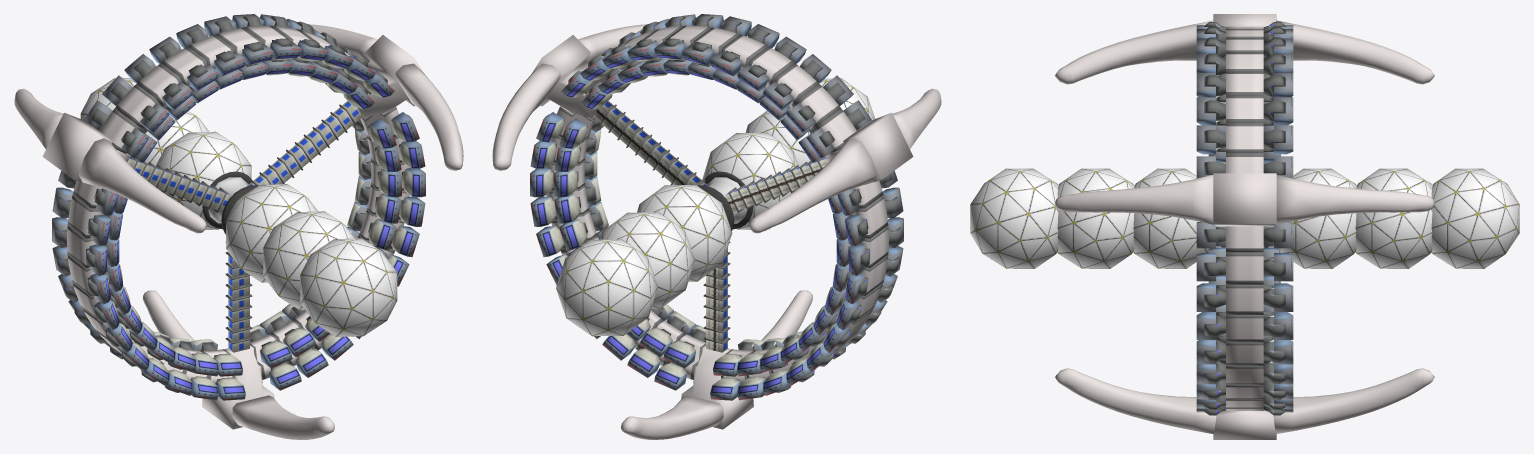
The model's file is spacestation.fbx.
The picture shows the model from 3 angles, left to right: view 1: azimuth 30°, elevation 25°; view 2: azimuth 150°, elevation 25°; view 3: azimuth 270°, elevation 25°; orthographic projection. The views are drawn at different scales.
Visible parts, largest first — view 1: Icosphere_004, Icosphere, Icosphere_003, StationFloor_041, Icosphere_011, StationFloor_023, StationFloor_037, StationFloor_039, StationFloor_038, StationFloor, StationFloor_040, StationFloor_036 (+41 smaller); view 2: Icosphere_007, Icosphere_011, Icosphere_008, StationFloor_040, Icosphere, StationFloor_024, StationFloor_036, StationFloor_039, StationFloor_038, StationFloor, StationFloor_041, Icosphere_003 (+41 smaller); view 3: Icosphere_007, Icosphere_004, Icosphere_008, Icosphere_003, StationFloor_023, StationFloor_024, StationFloor_037, StationFloor_036, Icosphere_011, Icosphere, StationFloor_041, StationFloor_040 (+16 smaller).
Part boxes in pixels (box(x1,y1,x2,y2)): Icosphere_004: box(300, 238, 397, 336); Icosphere: box(226, 184, 317, 282); Icosphere_003: box(263, 211, 354, 309); StationFloor_041: box(78, 138, 206, 233); Icosphere_011: box(156, 131, 251, 229); StationFloor_023: box(395, 63, 463, 170); StationFloor_037: box(232, 395, 334, 439); StationFloor_039: box(42, 112, 130, 185); StationFloor_038: box(357, 35, 423, 119); StationFloor: box(202, 345, 274, 429); StationFloor_040: box(14, 88, 62, 148); StationFloor_036: box(143, 290, 194, 341); Icosphere_007: box(556, 239, 657, 336); Icosphere_011: box(637, 185, 732, 281); Icosphere_008: box(600, 212, 694, 308); StationFloor_040: box(749, 138, 877, 233); Icosphere: box(702, 132, 798, 229); StationFloor_024: box(492, 63, 560, 170); StationFloor_036: box(621, 395, 723, 439); StationFloor_039: box(825, 112, 913, 185); StationFloor_038: box(532, 35, 598, 119); StationFloor: box(681, 345, 753, 429); StationFloor_041: box(893, 88, 941, 148); Icosphere_003: box(745, 110, 810, 166); Icosphere_007: box(1431, 168, 1519, 268); Icosphere_004: box(970, 168, 1058, 268); Icosphere_008: box(1355, 168, 1432, 268); Icosphere_003: box(1057, 168, 1134, 268); StationFloor_023: box(1055, 175, 1214, 224); StationFloor_024: box(1275, 175, 1434, 224); StationFloor_037: box(1055, 368, 1216, 434); StationFloor_036: box(1273, 368, 1434, 433); Icosphere_011: box(1279, 168, 1356, 268); Icosphere: box(1133, 168, 1210, 268); StationFloor_041: box(1055, 20, 1213, 84); StationFloor_040: box(1276, 20, 1434, 84).
Size of the model in its own units: 159 by 160 by 204.
9 materials, 4 textured.
